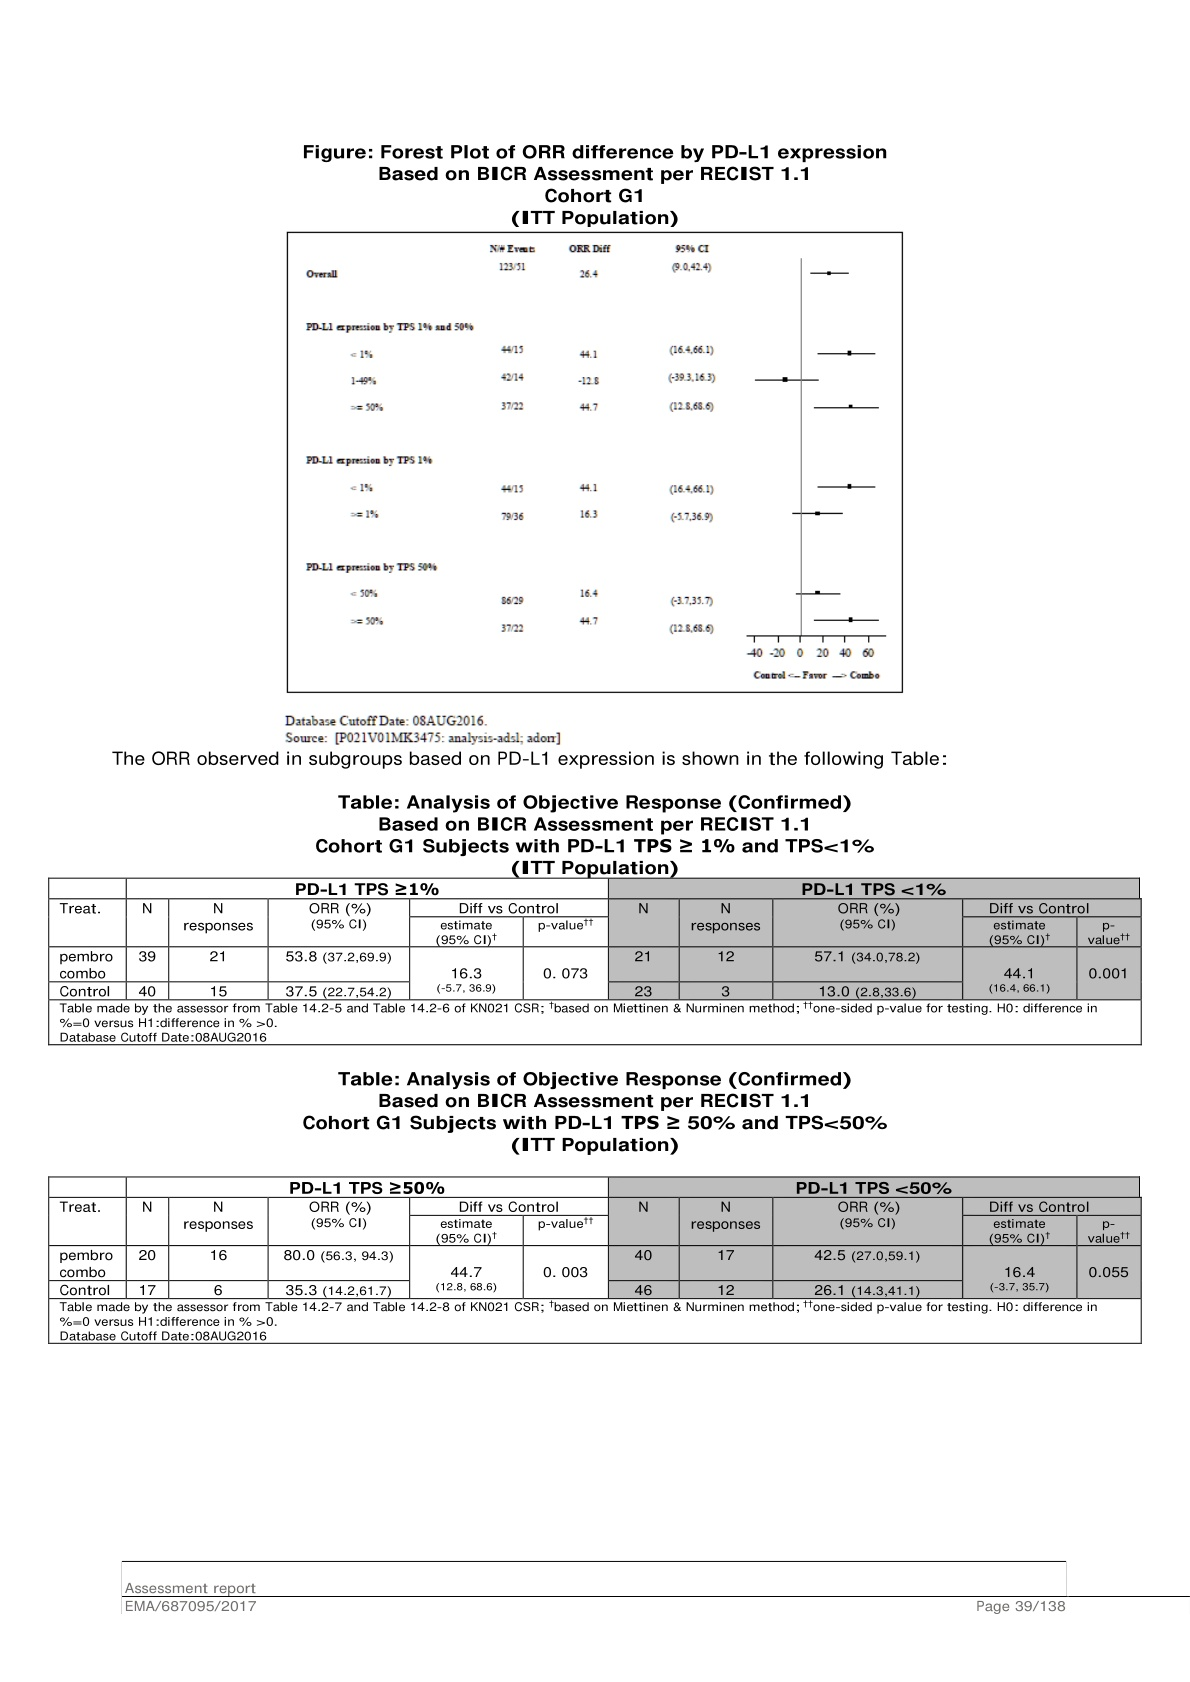merged_cells: (46, 1175, 1144, 1345), (46, 876, 1142, 1046)
nolines: (304, 241, 717, 638)
